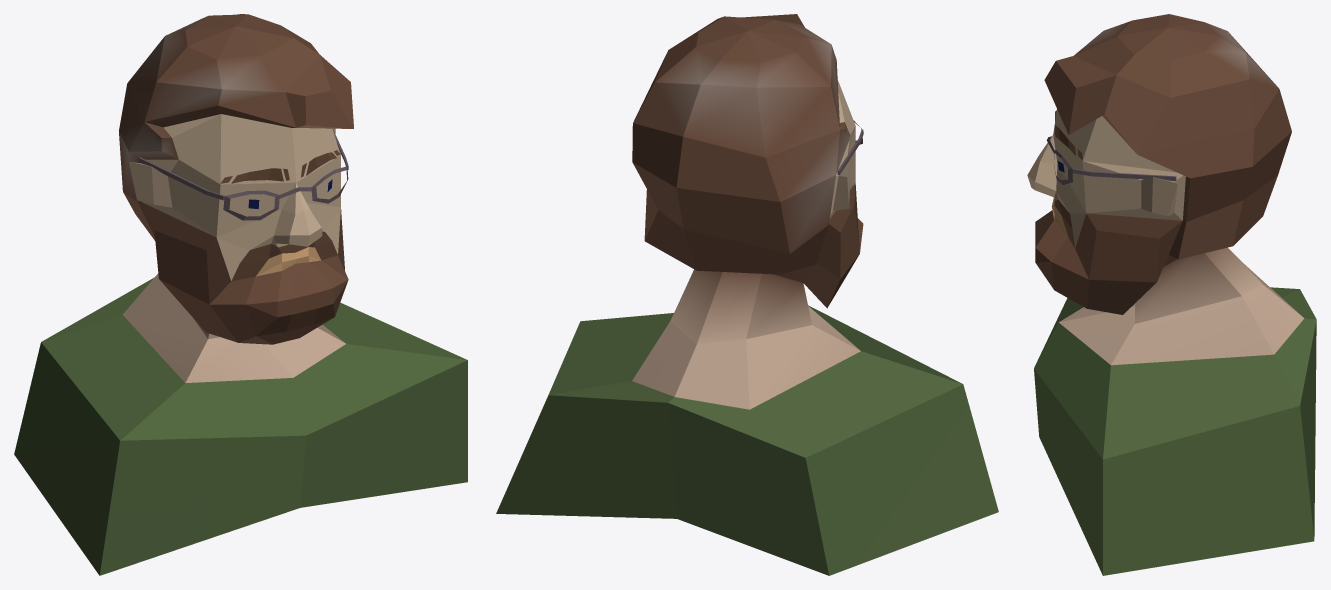
Rendered from portrait.glb.
The picture shows the model from 3 angles, left to right: view 1: azimuth 30°, elevation 25°; view 2: azimuth 150°, elevation 25°; view 3: azimuth 270°, elevation 25°; orthographic projection. The views are drawn at different scales.
Visible parts, largest first — view 1: Head, Glasses; view 2: Head; view 3: Head, Glasses.
Part boxes in pixels (bbox=[...]): Head: bbox=[14, 14, 467, 575]; Glasses: bbox=[138, 128, 348, 220]; Head: bbox=[496, 14, 998, 575]; Head: bbox=[1027, 14, 1316, 575]; Glasses: bbox=[1046, 110, 1176, 184].
Bounding box in the file's own units: 3.47 × 4.09 × 2.35.
